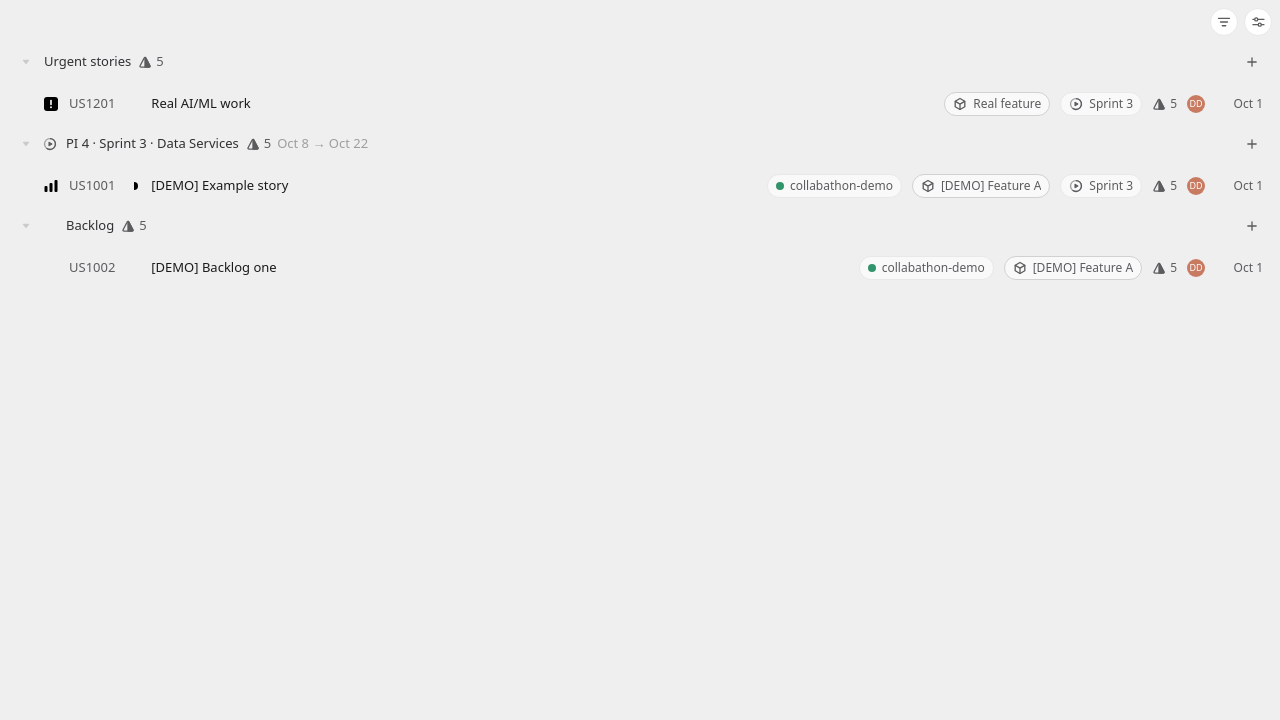
Scenario: Display switches to a board and remembers it for this view
Click the button named "Display options" at (1258, 22), box [1244,8,1272,36]
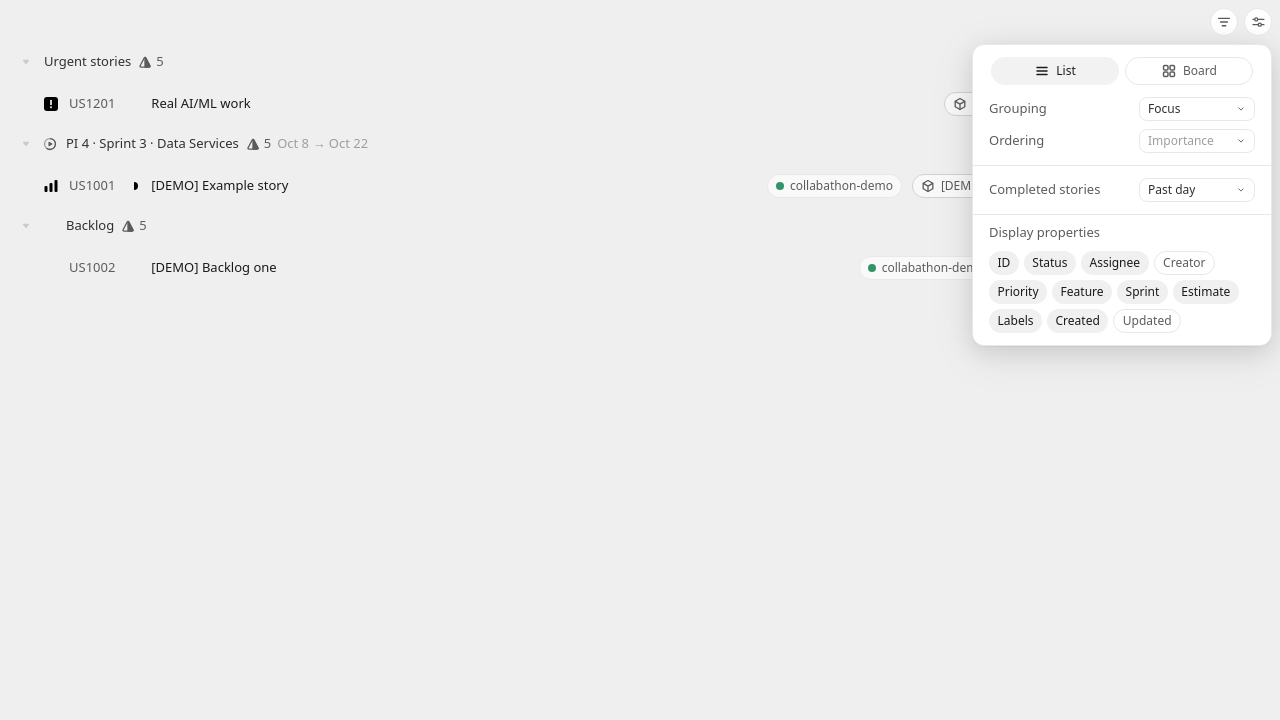
Click the tab "Board" at (1189, 71), box [1125,57,1253,85]
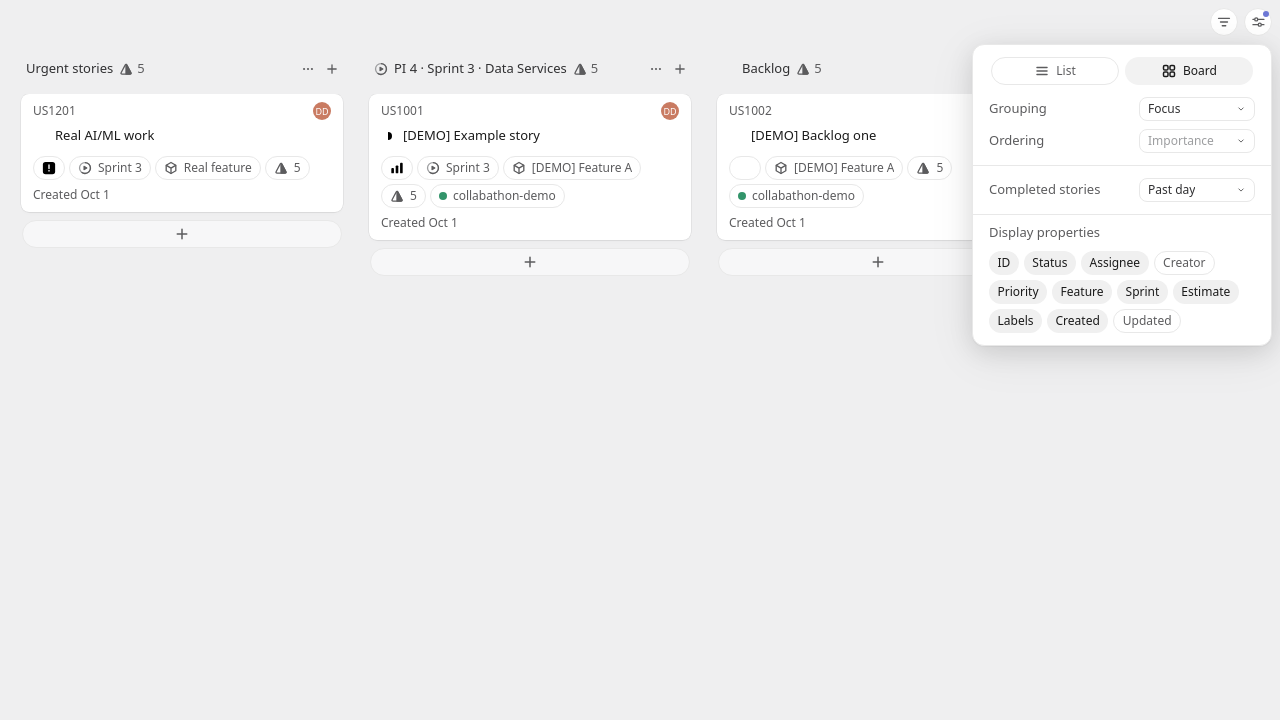
Now the element named "Backlog column" is shown, box [704,44,1052,288]
